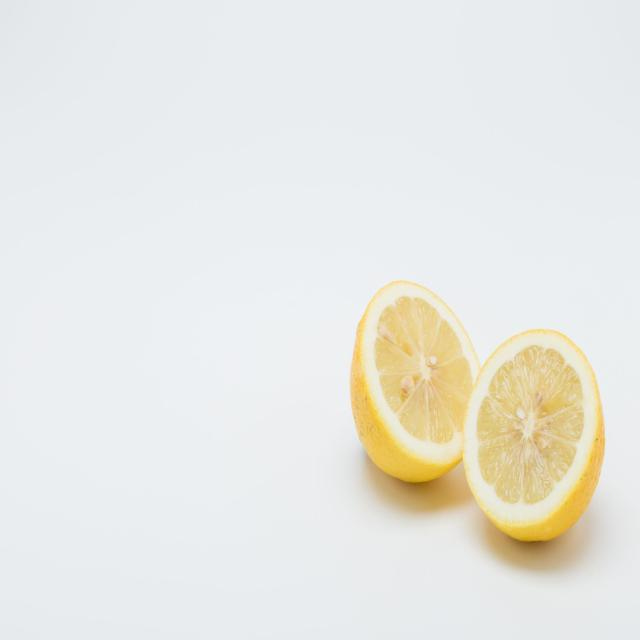lemon: (458, 322, 606, 546), (346, 270, 482, 492)
